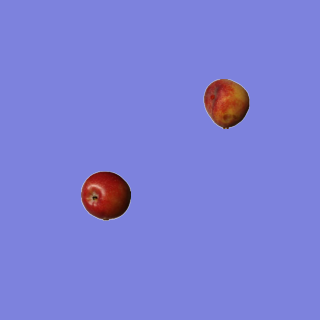Apple Braeburn: (80, 170, 130, 220)
Peach: (201, 78, 251, 128)
